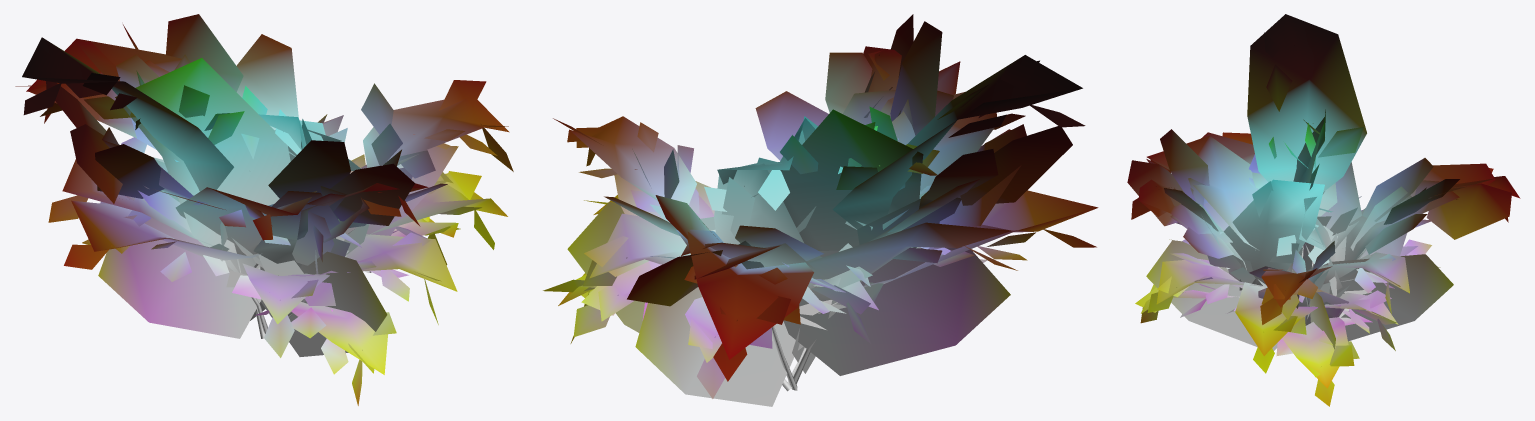
Rendered from arden_forest_bush_flower_small_01.fbx.
3 views of the same model, side by side, from view 1: azimuth 30°, elevation 25°; view 2: azimuth 150°, elevation 25°; view 3: azimuth 270°, elevation 25° (orthographic). The views are drawn at different scales.
Parts seen in each view (by area): view 1: arden_forest_bush_flower_small_01; view 2: arden_forest_bush_flower_small_01; view 3: arden_forest_bush_flower_small_01.
Part boxes in pixels (bbox=[...]): arden_forest_bush_flower_small_01: bbox=[15, 14, 513, 405]; arden_forest_bush_flower_small_01: bbox=[543, 14, 1098, 406]; arden_forest_bush_flower_small_01: bbox=[1127, 14, 1520, 406].
Bounding box in the file's own units: 2.02 × 1.97 × 1.36.
